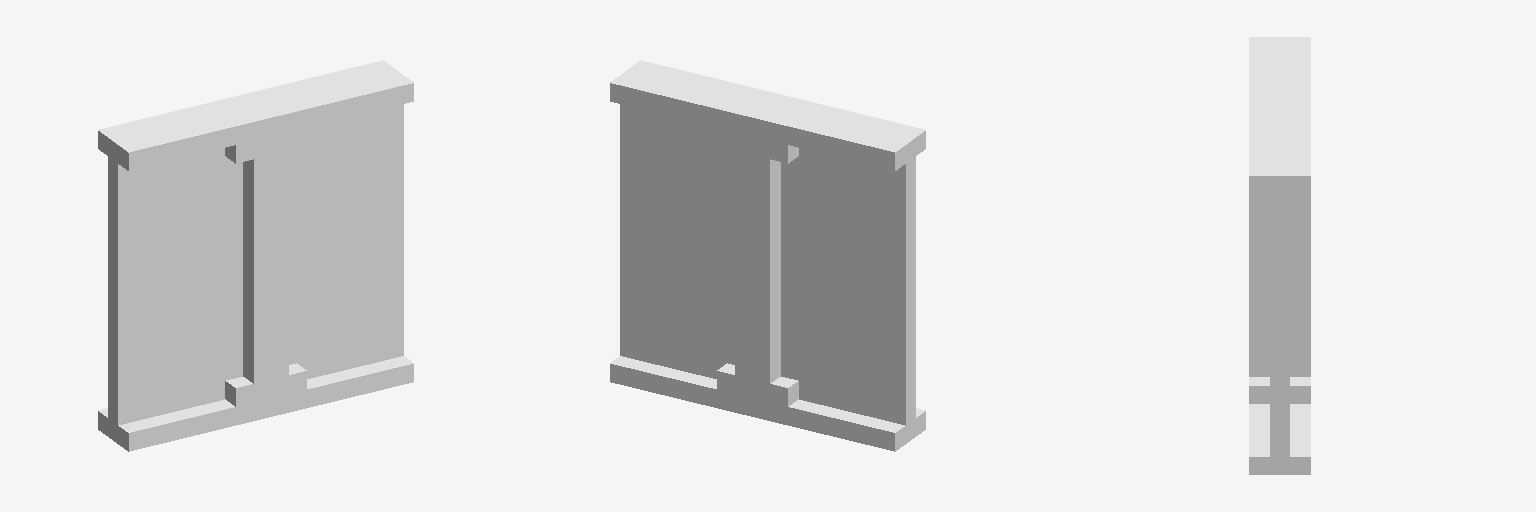
Rendered from wall.obj.
3 renders of one model, left to right at view 1: azimuth 30°, elevation 25°; view 2: azimuth 150°, elevation 25°; view 3: azimuth 270°, elevation 25°, orthographic.
Visible parts, largest first — view 1: wall.002; view 2: wall.002; view 3: wall.002.
Part boxes in pixels (x1,y1,x2,y2): wall.002: (98,60,413,451); wall.002: (610,60,925,451); wall.002: (1249,37,1310,474).
Bounding box in the file's own units: 1 × 1 × 0.1875.